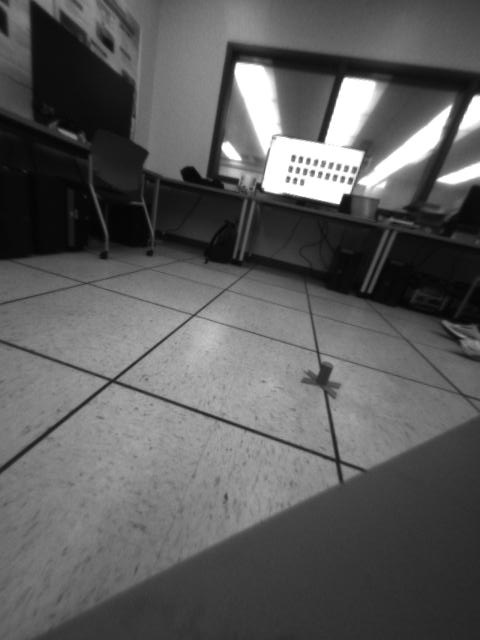X: (300, 362, 341, 402)
